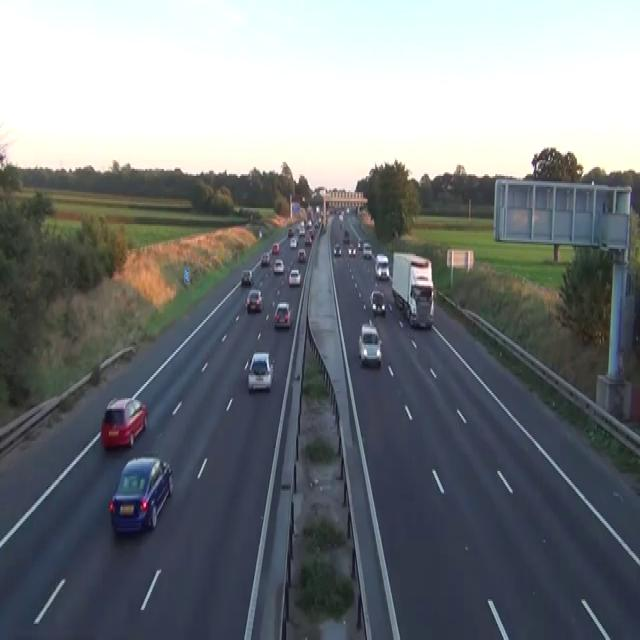Car: (109, 455, 173, 535), (101, 396, 147, 450), (408, 283, 434, 329), (247, 352, 274, 391), (358, 322, 381, 366), (273, 301, 291, 327), (245, 288, 263, 311), (374, 253, 389, 279), (370, 290, 386, 314), (288, 268, 300, 286), (241, 268, 253, 286), (273, 258, 284, 274), (260, 250, 270, 266), (362, 242, 371, 258), (297, 247, 306, 261), (333, 242, 341, 256), (347, 244, 356, 256), (289, 237, 298, 247), (304, 235, 312, 245), (343, 229, 349, 242), (298, 222, 304, 235), (327, 206, 335, 215), (272, 242, 279, 252), (357, 238, 363, 249), (314, 218, 320, 228), (306, 218, 312, 228), (293, 233, 299, 243), (321, 222, 326, 233), (287, 228, 293, 236), (309, 228, 314, 236), (258, 230, 262, 238), (339, 212, 343, 220), (345, 206, 349, 214), (355, 204, 358, 213)
Truck: (391, 251, 434, 329)
